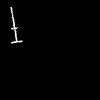double_crochet: (11, 7, 21, 42)
